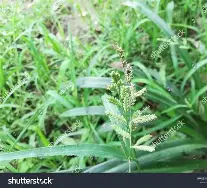weed: (109, 49, 144, 164)
